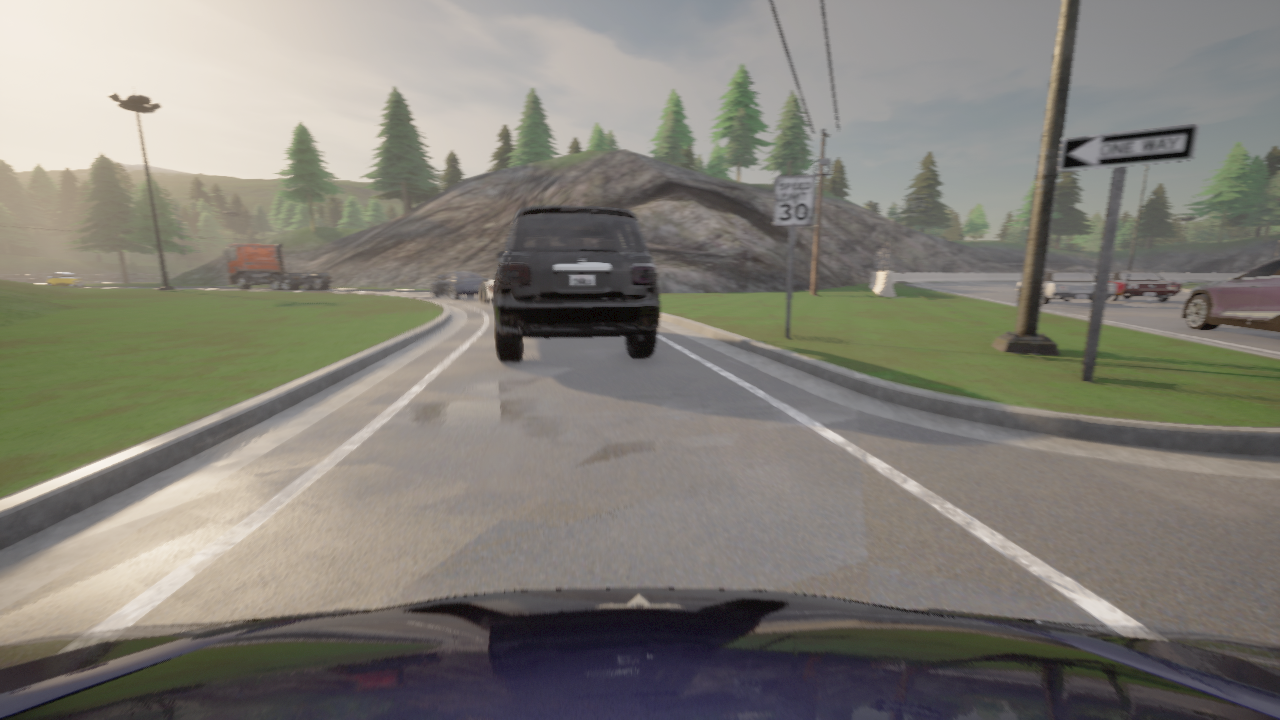cyclist: (0, 588, 1279, 719), (493, 206, 659, 362), (1181, 257, 1279, 332), (224, 243, 335, 291), (1016, 271, 1115, 304), (1108, 272, 1181, 302), (431, 271, 483, 300), (46, 272, 84, 287), (479, 272, 495, 304)
